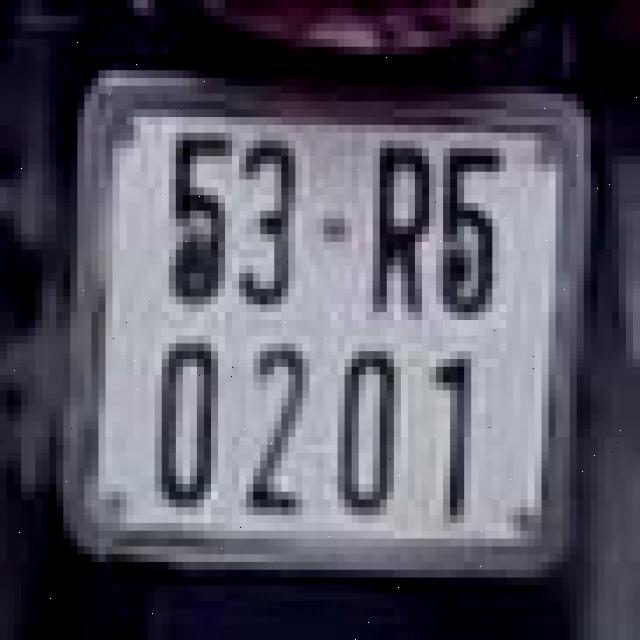0: (144, 324, 229, 519), (330, 336, 408, 530)
1: (429, 344, 478, 554)
2: (236, 332, 313, 534)
3: (236, 133, 299, 320)
5: (151, 121, 236, 308), (439, 136, 510, 332)
R: (366, 136, 436, 332)
